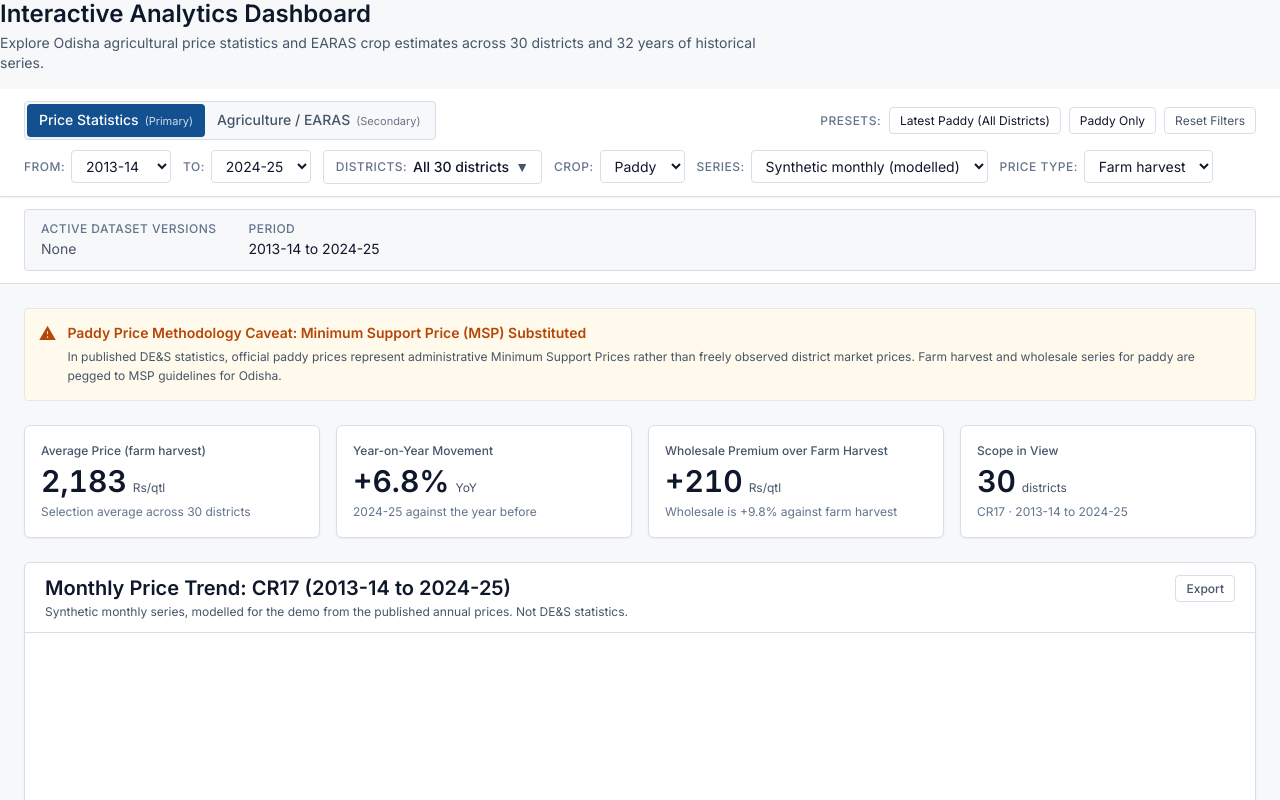
Test case: Dashboard — Interactive Analytics (RFP Area 3) › opens the export dialog showing the context that will travel with the file
Expected: the heading "Monthly Price Trend: CR17 (2013-14 to 2024-25)" is shown, 45,576 -> 511,600
Click the button "Export". click: (1205, 588)
box: 1176,575 -> 1235,602
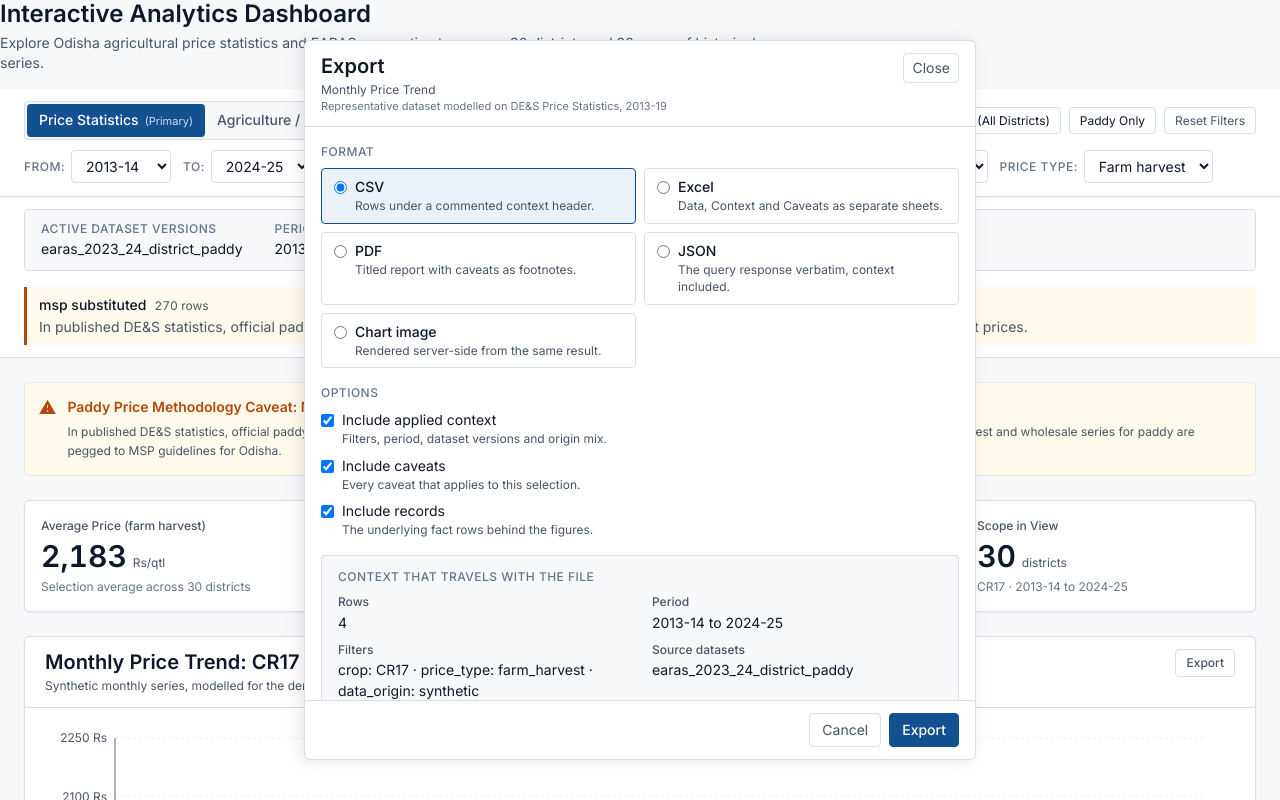
Now the dialog is shown, box 304,40 -> 976,760
Now the heading "Context that travels with the file" is shown, box 338,569 -> 594,584
Now the radio button labelled "Excel Data, Context and Caveats as separate sheets." is shown, box 657,181 -> 670,194
